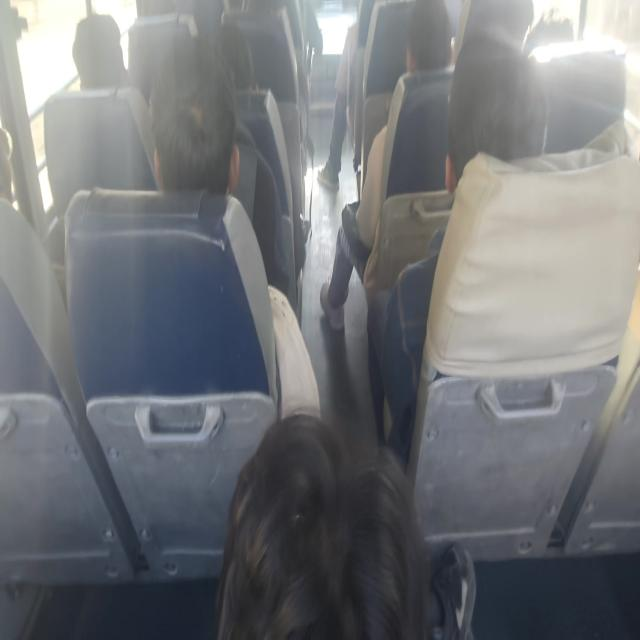person: (191, 408, 486, 636), (428, 42, 550, 210), (150, 58, 247, 218), (192, 18, 275, 96), (70, 2, 128, 98), (398, 0, 462, 77), (522, 4, 586, 47), (0, 93, 28, 186)
